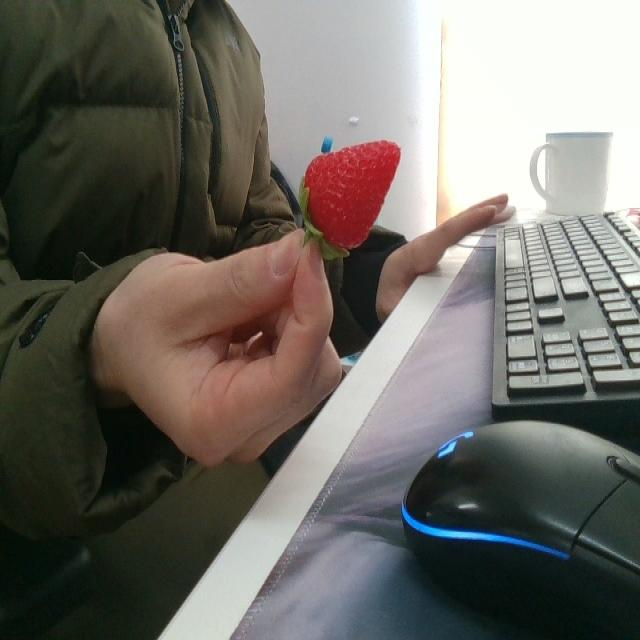mature: (302, 139, 401, 251)
